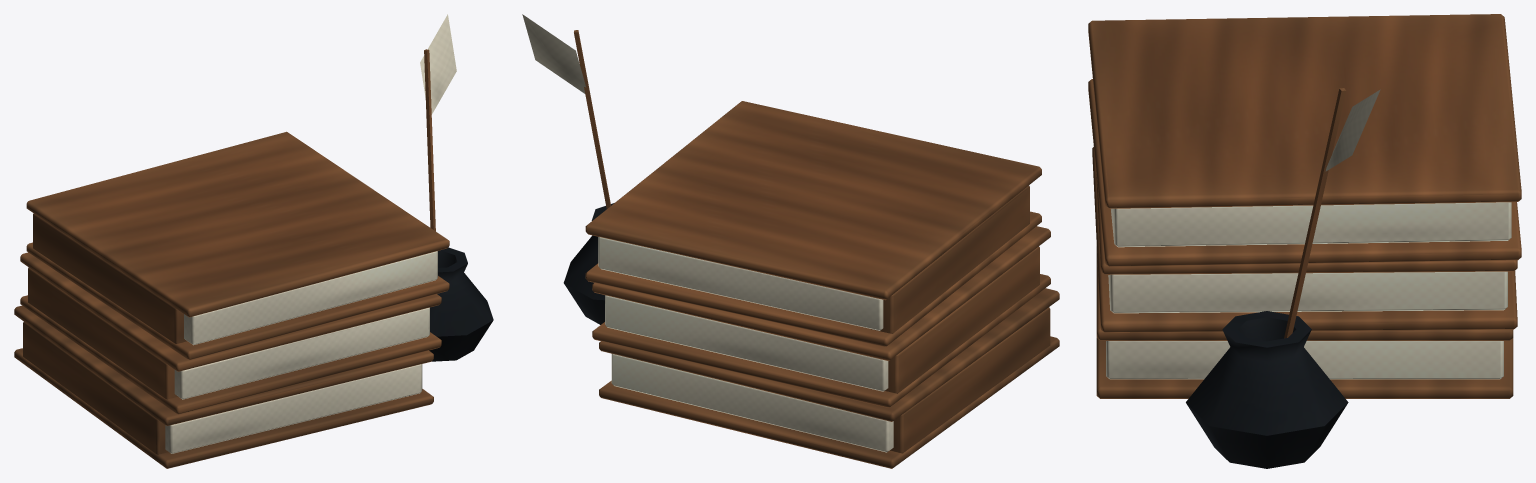
The model's file is Furn_Desk_BookStack.fbx.
3 renders of one model, left to right at view 1: azimuth 30°, elevation 25°; view 2: azimuth 150°, elevation 25°; view 3: azimuth 270°, elevation 25°, orthographic. The views are drawn at different scales.
Visible parts, largest first — view 1: Furn_Desk_BookStack; view 2: Furn_Desk_BookStack; view 3: Furn_Desk_BookStack.
Boxes of the visible parts, <box> form: Furn_Desk_BookStack: <box>14,14,493,468</box>; Furn_Desk_BookStack: <box>522,14,1059,468</box>; Furn_Desk_BookStack: <box>1088,14,1521,468</box>.
Bounding box in the file's own units: 0.35 × 0.25 × 0.25.
3 materials, 3 textured.
